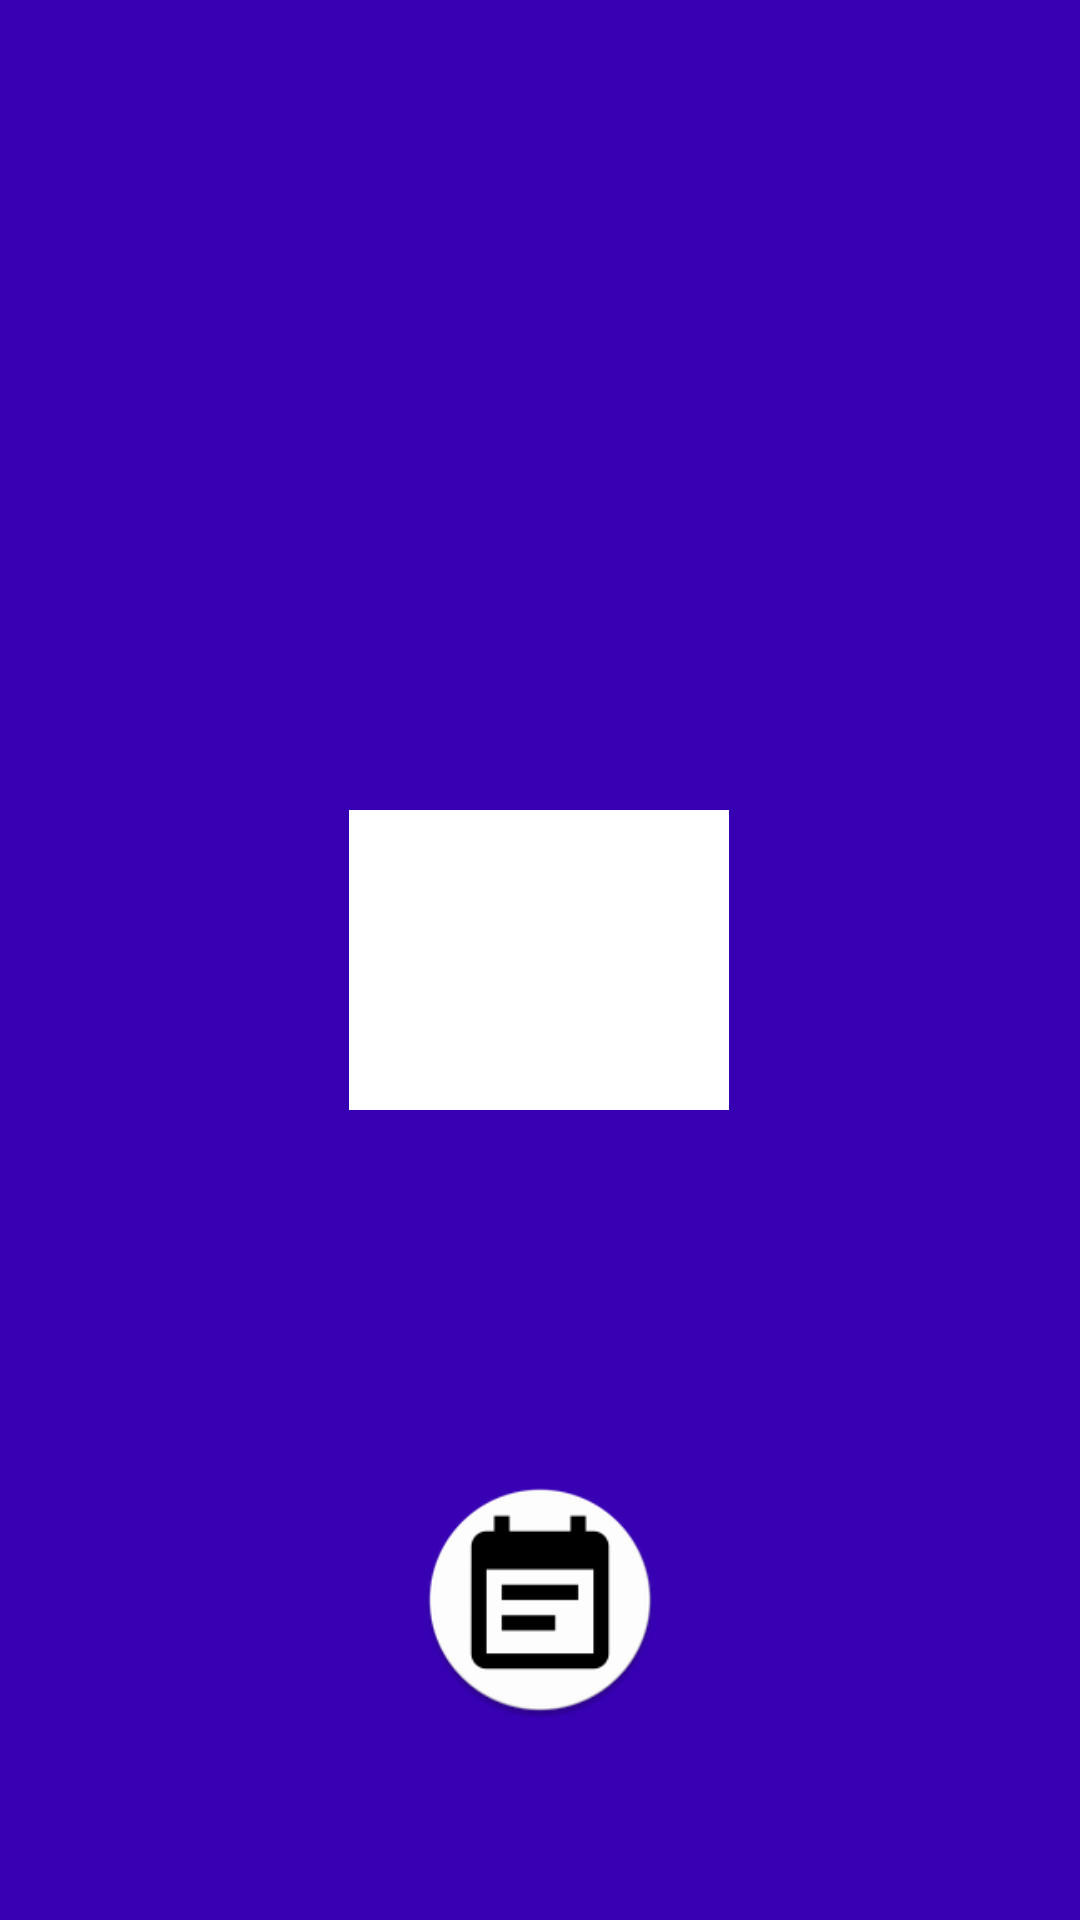

Where icons sit on this 1080px x 1920px app screen, as bbox=(x1, y1, x2, y2):
Add Game to Calendar: bbox=(429, 1488, 651, 1715)
